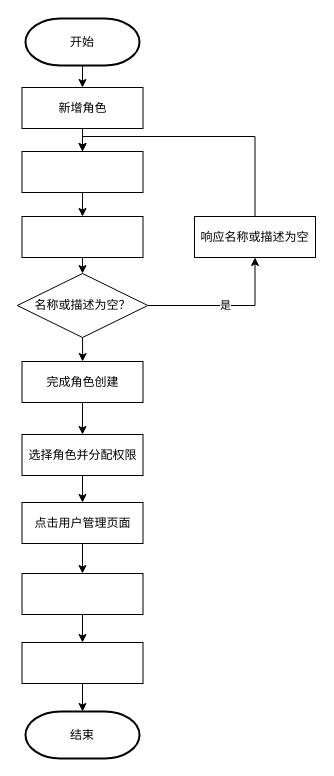
The diagram is 334 pixels wide and 776 high, and some of its shapes have lost their labels. The centre of each missing label's shape, as x and y in pixels:
填写角色的名称和描述: the point at 82,171
完成用户角色分配: the point at 82,663
点击角色创建按钮: the point at 82,237
选择用户并分配角色: the point at 82,593
